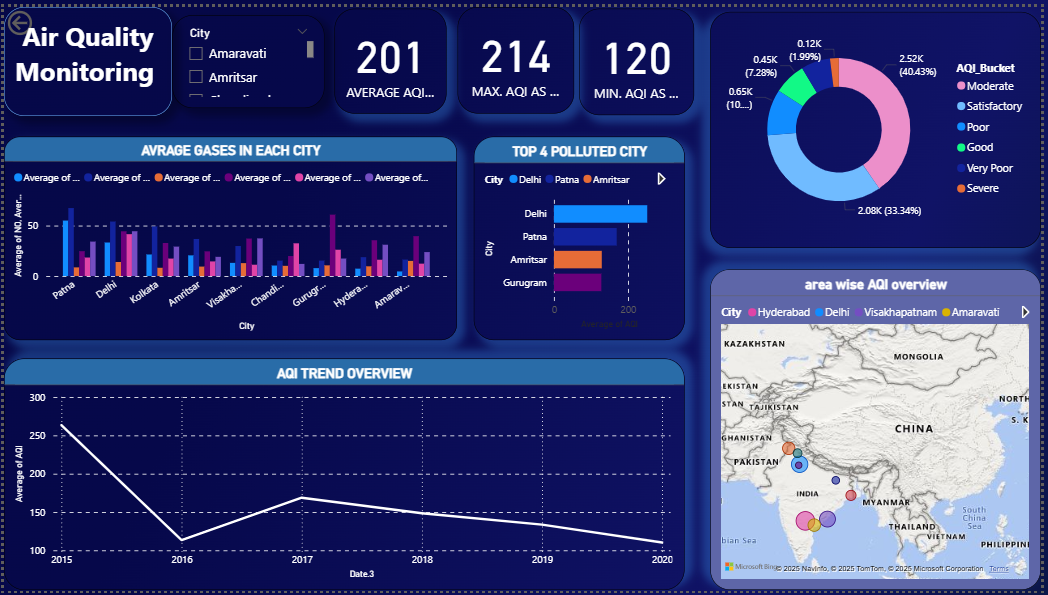

Layout of this report page (visuals, bound fields, positions):
{"tool":"powerbi","page":{"name":"Page 1","canvas":[1280,720],"ordinal":0},"visuals":[{"type":"donutChart","title":"HOW MANY DAYS FALL UNDER EACH AQI CATEGORY","fields":{"Category":["mydata (2).AQI_Bucket"],"Y":["CountNonNull(mydata (2).City)"]},"box":[872.8,5.5,408.1,291.5],"z":0},{"type":"lineClusteredColumnComboChart","title":"AVRAGE GASES IN EACH CITY","fields":{"Category":["mydata.City"],"Y":["Avg(mydata.NO)","Avg(mydata.NOx)","Avg(mydata.SO2)","Avg(mydata.O3)","Avg(mydata.NH3)","Avg(mydata.NO2)"]},"box":[0,160.3,559.4,251.4],"z":1000},{"type":"actionButton","box":[0,0,100,40],"z":2000},{"type":"card","fields":{"Values":["mydata.Count of AQI average per Date.2"]},"box":[408.1,1.8,138.5,129.4],"z":3000},{"type":"card","fields":{"Values":["mydata.Count of AQI max per Date.2"]},"box":[559.4,0,143.9,131.2],"z":4000},{"type":"card","fields":{"Values":["mydata.Count of AQI min per Date.2"]},"box":[710.6,1.8,142.1,131.2],"z":5000},{"type":"textbox","box":[0,0,207.7,134.8],"z":6000},{"type":"map","title":"area wise AQI overview","fields":{"Category":["mydata.City"],"Size":["CountNonNull(mydata.AQI)"],"Series":["mydata.City"]},"box":[872.8,324.3,408.1,395.4],"z":7000},{"type":"slicer","fields":{"Values":["mydata.City"]},"box":[208,10,188,124],"z":8000},{"type":"barChart","title":"TOP 4 POLLUTED CITY ","fields":{"Category":["mydata.City"],"Series":["mydata.City"],"Y":["Avg(mydata.AQI)"]},"box":[579.4,160.3,260.6,251.4],"z":9000},{"type":"lineChart","title":"AQI TREND OVERVIEW","fields":{"Y":["Avg(mydata.AQI)"],"Category":["mydata.Date.3"]},"box":[0,433.7,840,286.1],"z":10000}]}

Visuals, with their boxes in screenshot pixels (x1, y1, x2, y2), scaled from the page's 1280x720 canvas onto the 1048x595 screenshot:
"HOW MANY DAYS FALL UNDER EACH AQI CATEGORY" donutChart: box(715, 5, 1047, 245)
"AVRAGE GASES IN EACH CITY" lineClusteredColumnComboChart: box(0, 132, 458, 340)
actionButton: box(0, 0, 82, 33)
card - mydata.Count of AQI average per Date.2: box(334, 1, 448, 108)
card - mydata.Count of AQI max per Date.2: box(458, 0, 576, 108)
card - mydata.Count of AQI min per Date.2: box(582, 1, 698, 110)
textbox: box(0, 0, 170, 111)
"area wise AQI overview" map: box(715, 268, 1047, 594)
slicer - mydata.City: box(170, 8, 324, 111)
"TOP 4 POLLUTED CITY " barChart: box(474, 132, 688, 340)
"AQI TREND OVERVIEW" lineChart: box(0, 358, 688, 594)
